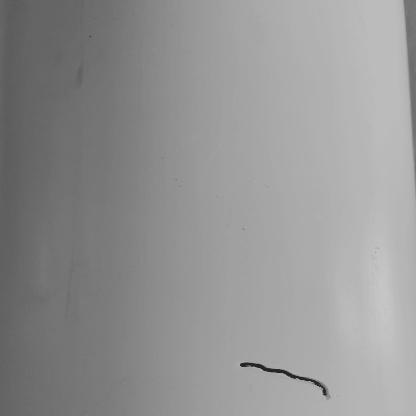fengxi: (240, 361, 332, 401)
